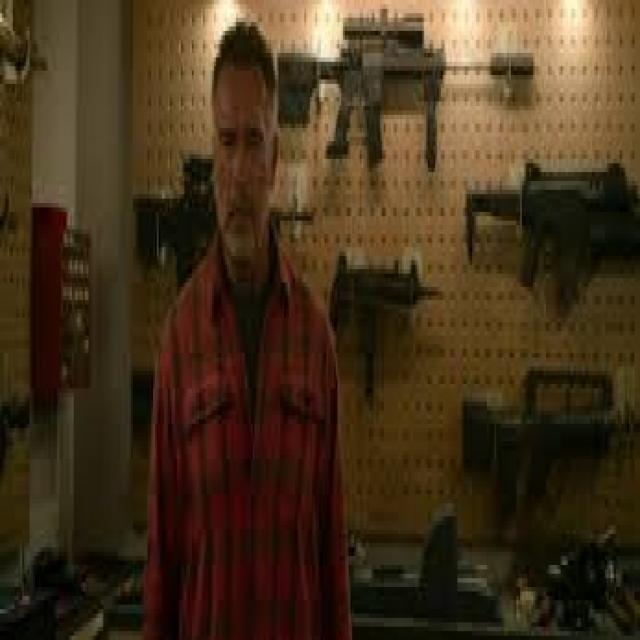weapon: (278, 4, 541, 165), (454, 353, 635, 534)
